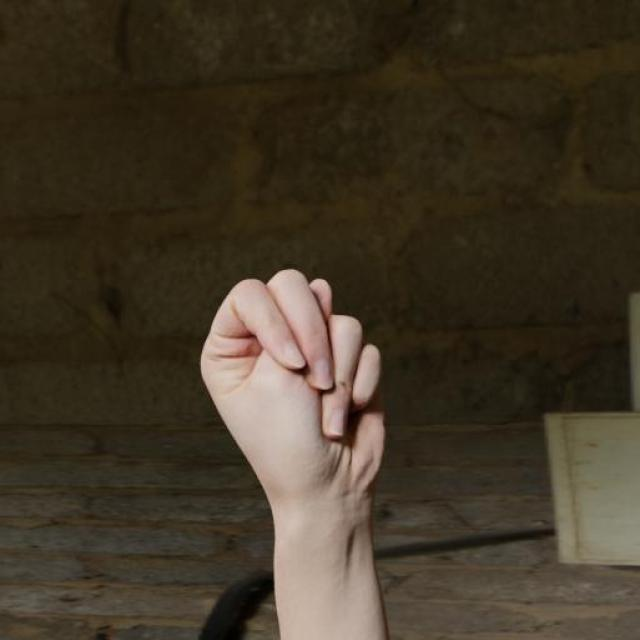N: (195, 269, 388, 519)
